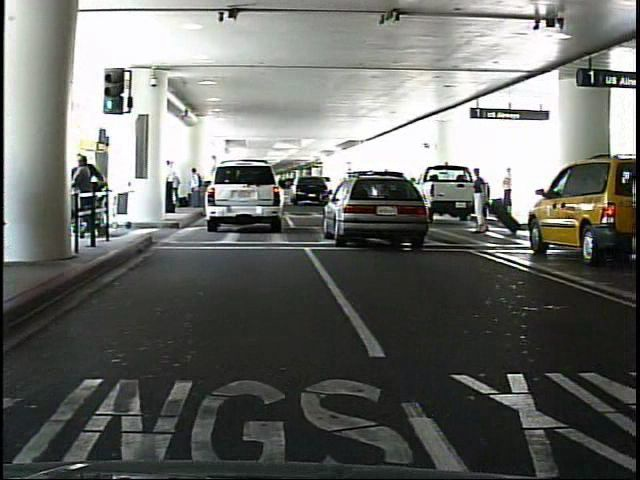person: (472, 166, 493, 235), (504, 166, 518, 217), (169, 157, 180, 217), (192, 167, 206, 210)
